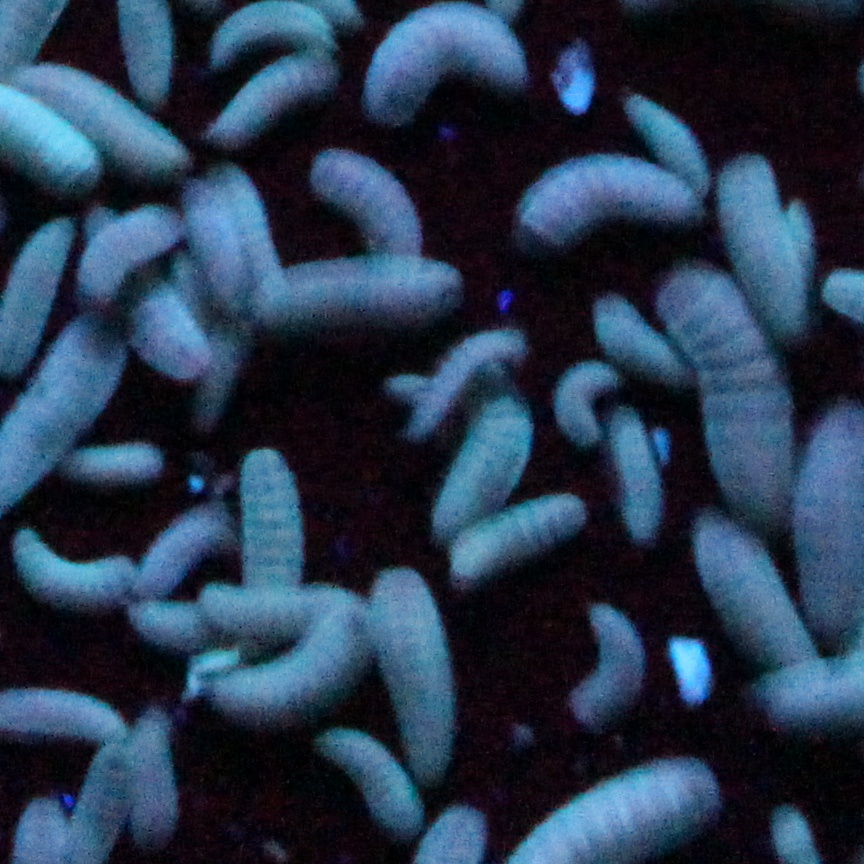larve: (666, 277, 800, 530), (360, 558, 466, 786), (676, 501, 796, 664), (715, 154, 814, 343), (244, 258, 464, 341), (200, 610, 355, 717), (495, 158, 715, 233), (303, 712, 433, 837), (299, 141, 428, 262), (233, 435, 313, 623), (204, 44, 336, 154), (433, 380, 533, 521), (553, 595, 650, 734), (616, 80, 718, 208), (444, 489, 591, 576), (135, 495, 251, 602), (80, 197, 181, 309), (567, 294, 686, 385), (600, 401, 671, 547), (185, 179, 248, 306), (550, 355, 619, 452), (73, 435, 162, 485)
